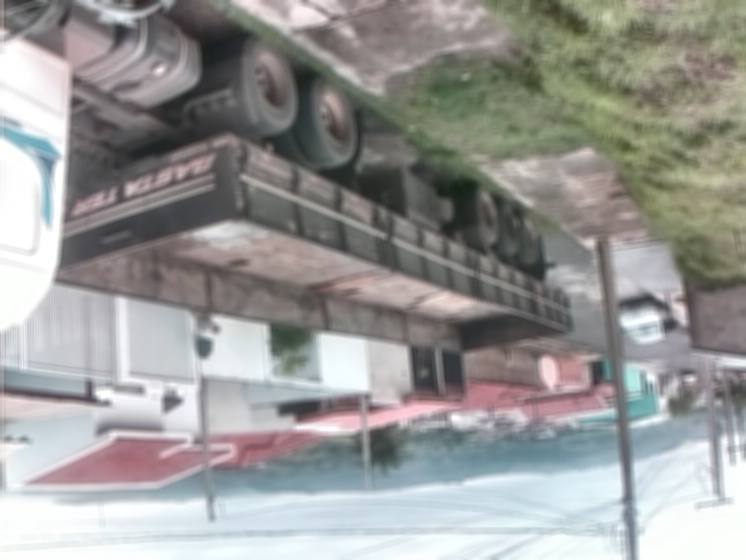person: (191, 310, 221, 335)
